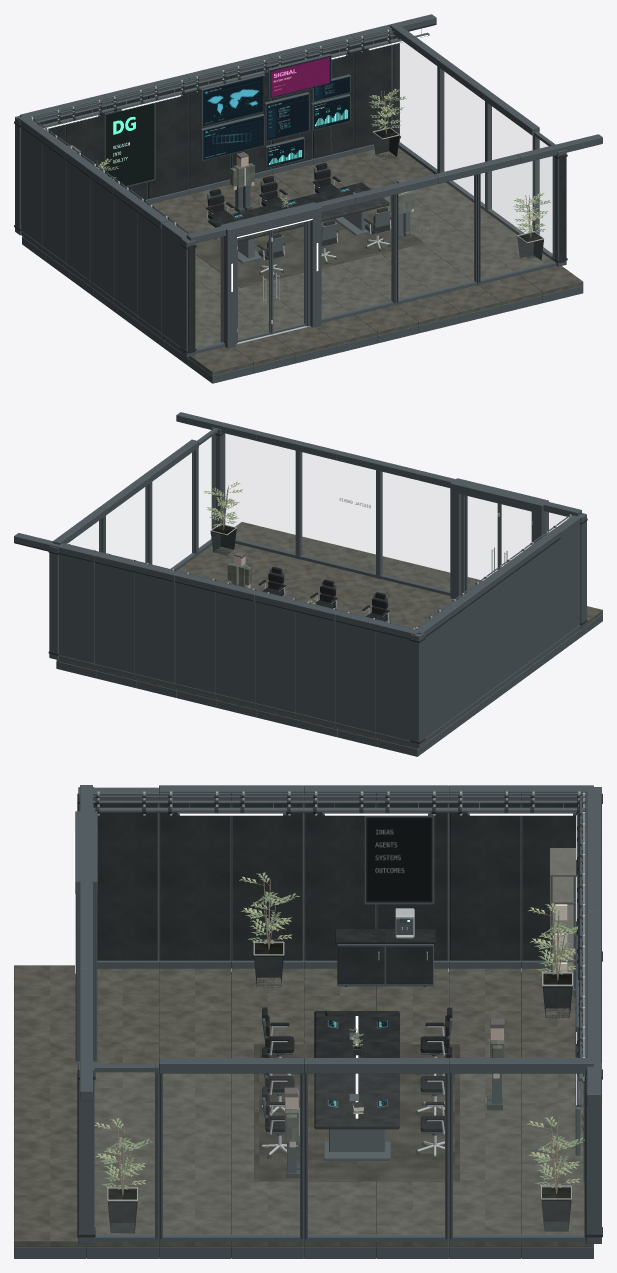
File: MeetingRoom.glb
The picture shows the model from 3 angles, top to bottom: view 1: azimuth 30°, elevation 25°; view 2: azimuth 150°, elevation 25°; view 3: azimuth 270°, elevation 25°; orthographic projection. The views are drawn at different scales.
Visible parts, largest first — view 1: Rug-216_GraphiteWoven__mesh, EntrancePortal-198_BlackenedSteel__mesh, DGLogoPanel-233_DGIdentity__mesh, WallPanel-150_Powdercoat__mesh, WallPanel-160_Powdercoat__mesh, WallPanel-168_BlackenedSteel__mesh, WallPanel-166_BlackenedSteel__mesh, WallPanel-164_BlackenedSteel__mesh, WallPanel-172_BlackenedSteel__mesh, WallPanel-170_BlackenedSteel__mesh, WallPanel-174_BlackenedSteel__mesh, ConferenceTable-215_BlackMarble__mesh (+83 smaller); view 2: WallPanel-152_BlackenedSteel__mesh, WallPanel-148_BlackenedSteel__mesh, WallPanel-146_BlackenedSteel__mesh, WallPanel-150_BlackenedSteel__mesh, WallPanel-156_BlackenedSteel__mesh, WallPanel-154_BlackenedSteel__mesh, WallPanel-158_BlackenedSteel__mesh, WallPanel-160_BlackenedSteel__mesh, WallPanel-144_BlackenedSteel__mesh, EntrancePortal-198_BlackenedSteel__mesh, WallPanel-174_BlackenedSteel__mesh, WallPanel-164_BlackenedSteel__mesh (+47 smaller); view 3: Rug-216_GraphiteWoven__mesh, WallPanel-164_Powdercoat__mesh, WallPanel-172_Powdercoat__mesh, WallPanel-170_Powdercoat__mesh, WallPanel-174_Powdercoat__mesh, WallPanel-168_Powdercoat__mesh, ConferenceTable-215_BlackMarble__mesh, SloganPanel-236_Slogan__mesh, WallPanel-162_Powdercoat__mesh, SideCabinet-234_Powdercoat__mesh, WallPanel-166_Powdercoat__mesh, EntrancePortal-198_BlackenedSteel__mesh (+118 smaller).
Boxes of the visible parts, bbox=[...] form: Rug-216_GraphiteWoven__mesh: bbox=[195, 208, 424, 287]; EntrancePortal-198_BlackenedSteel__mesh: bbox=[220, 202, 321, 348]; DGLogoPanel-233_DGIdentity__mesh: bbox=[105, 103, 154, 186]; WallPanel-150_Powdercoat__mesh: bbox=[148, 86, 188, 198]; WallPanel-160_Powdercoat__mesh: bbox=[354, 37, 391, 148]; WallPanel-168_BlackenedSteel__mesh: bbox=[90, 178, 114, 302]; WallPanel-166_BlackenedSteel__mesh: bbox=[66, 161, 90, 285]; WallPanel-164_BlackenedSteel__mesh: bbox=[42, 143, 66, 267]; WallPanel-172_BlackenedSteel__mesh: bbox=[137, 213, 161, 337]; WallPanel-170_BlackenedSteel__mesh: bbox=[114, 195, 137, 319]; WallPanel-174_BlackenedSteel__mesh: bbox=[161, 221, 187, 352]; ConferenceTable-215_BlackMarble__mesh: bbox=[208, 182, 389, 242]; WallPanel-152_BlackenedSteel__mesh: bbox=[215, 592, 255, 707]; WallPanel-148_BlackenedSteel__mesh: bbox=[295, 612, 335, 726]; WallPanel-146_BlackenedSteel__mesh: bbox=[335, 622, 375, 736]; WallPanel-150_BlackenedSteel__mesh: bbox=[255, 602, 295, 717]; WallPanel-156_BlackenedSteel__mesh: bbox=[134, 573, 175, 687]; WallPanel-154_BlackenedSteel__mesh: bbox=[175, 582, 215, 697]; WallPanel-158_BlackenedSteel__mesh: bbox=[94, 563, 134, 677]; WallPanel-160_BlackenedSteel__mesh: bbox=[59, 554, 94, 668]; WallPanel-144_BlackenedSteel__mesh: bbox=[375, 631, 410, 745]; EntrancePortal-198_BlackenedSteel__mesh: bbox=[450, 478, 548, 599]; WallPanel-174_BlackenedSteel__mesh: bbox=[554, 515, 582, 643]; WallPanel-164_BlackenedSteel__mesh: bbox=[443, 607, 467, 728]; Rug-216_GraphiteWoven__mesh: bbox=[254, 1044, 459, 1181]; WallPanel-164_Powdercoat__mesh: bbox=[450, 803, 520, 960]; WallPanel-172_Powdercoat__mesh: bbox=[160, 803, 230, 960]; WallPanel-170_Powdercoat__mesh: bbox=[232, 803, 302, 960]; WallPanel-174_Powdercoat__mesh: bbox=[94, 803, 157, 960]; WallPanel-168_Powdercoat__mesh: bbox=[305, 803, 375, 960]; ConferenceTable-215_BlackMarble__mesh: bbox=[314, 1011, 399, 1129]; SloganPanel-236_Slogan__mesh: bbox=[366, 817, 432, 902]; WallPanel-162_Powdercoat__mesh: bbox=[522, 803, 582, 960]; SideCabinet-234_Powdercoat__mesh: bbox=[338, 945, 432, 986]; WallPanel-166_Powdercoat__mesh: bbox=[377, 803, 447, 960]; EntrancePortal-198_BlackenedSteel__mesh: bbox=[75, 811, 97, 1061].
Bounding box in the file's own units: 12.15 × 3.63 × 9.75.
31 materials, 16 textured.
